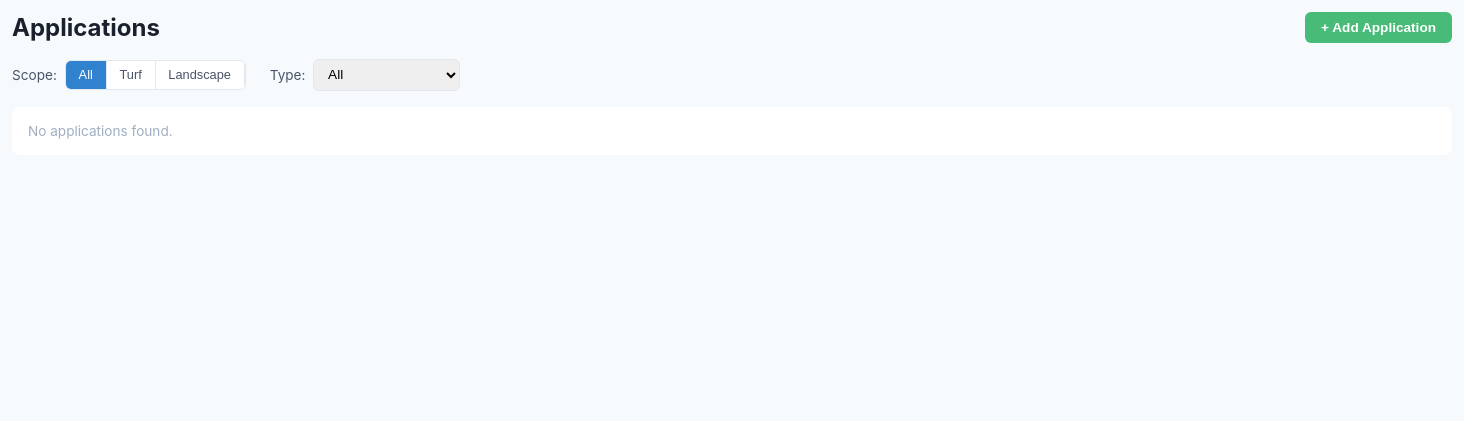
application form › defaults a new entry to today on the local calendar
The image size is (1464, 421).
Click the button "+ Add Application" at coordinates (1379, 28), box [1305,12,1452,43]
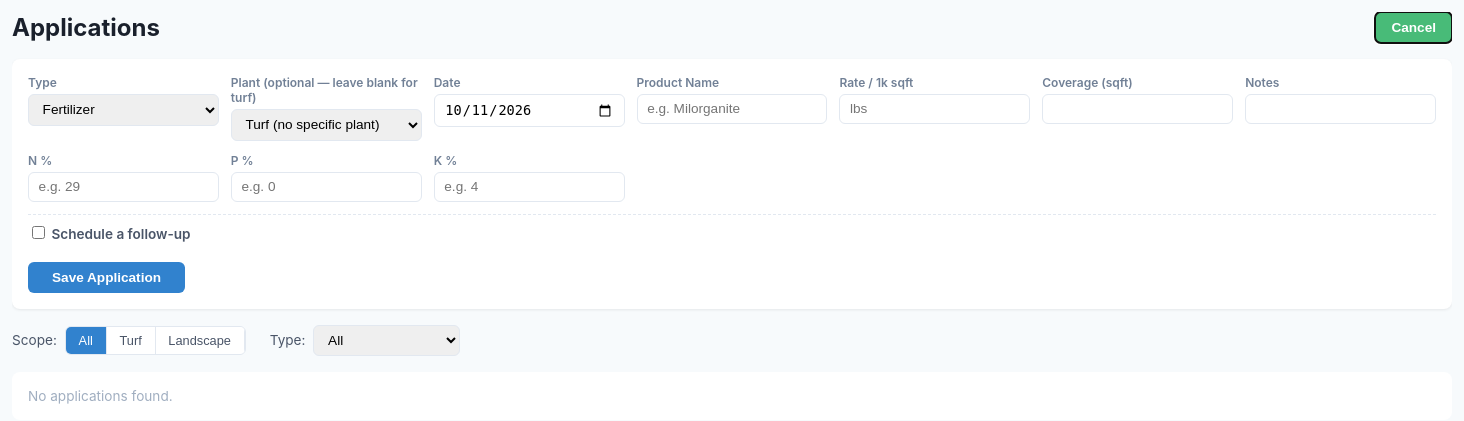
Now the date field labelled "Date" holds "2026-10-11", box [434,94,625,127]
